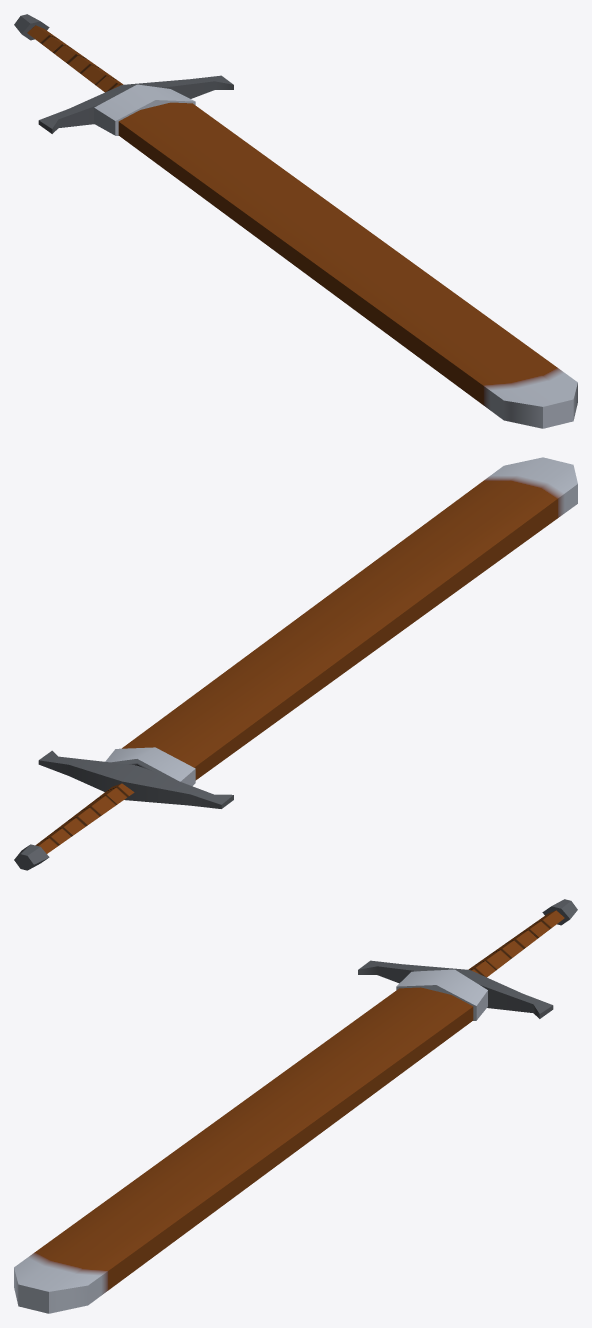
Rendered from wpn-greatsword.glb.
3 views of the same model, one above another, from view 1: azimuth 30°, elevation 25°; view 2: azimuth 150°, elevation 25°; view 3: azimuth 330°, elevation 25° (orthographic).
Parts seen in each view (by area): view 1: GreatswordScabbardBasic, GreatswordBasic.001; view 2: GreatswordScabbardBasic, GreatswordBasic.001; view 3: GreatswordScabbardBasic, GreatswordBasic.001.
Part boxes in pixels (box(x1,y1,x2,y2)): GreatswordScabbardBasic: box(94, 84, 577, 428); GreatswordBasic.001: box(14, 14, 233, 133); GreatswordScabbardBasic: box(105, 457, 577, 786); GreatswordBasic.001: box(14, 750, 233, 870); GreatswordScabbardBasic: box(14, 969, 487, 1313); GreatswordBasic.001: box(358, 899, 577, 1018).
Bounding box in the file's own units: 0.375 × 0.0813 × 1.9.
1 material, 1 textured.
